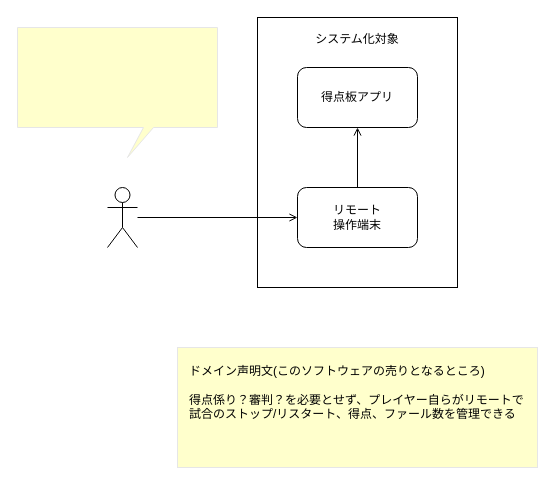
Image size: 555x485. Some labels were removed from this diagram. The shapes that lost their labels are listed below. From the top down, each one's centre as x and y in pixels, then its label:
At (117,92): "プレイヤーがプレイ中に得点板アプリをリモート操作端末を使って操作する。".
At (122,217): "プレイヤー".
